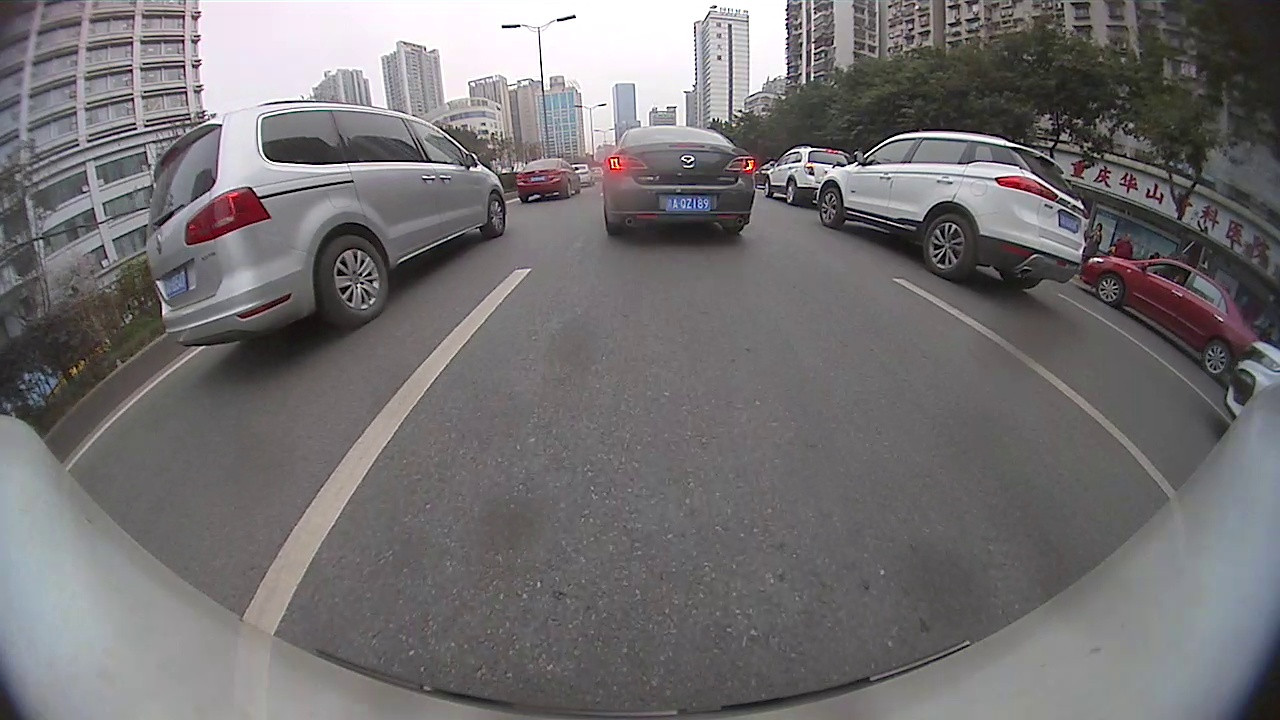car: (145, 99, 507, 343), (815, 129, 1091, 290), (1077, 254, 1256, 379), (599, 123, 757, 239), (759, 143, 853, 204), (1222, 336, 1278, 423), (514, 155, 578, 200), (749, 160, 788, 190), (568, 162, 594, 193)
front: (817, 186, 845, 229), (486, 192, 508, 237), (1095, 273, 1125, 305), (763, 178, 774, 200)
person: (1116, 230, 1134, 264), (1089, 221, 1103, 255)
rear: (315, 234, 388, 325), (922, 214, 979, 282), (1201, 341, 1234, 375), (785, 179, 796, 206)
